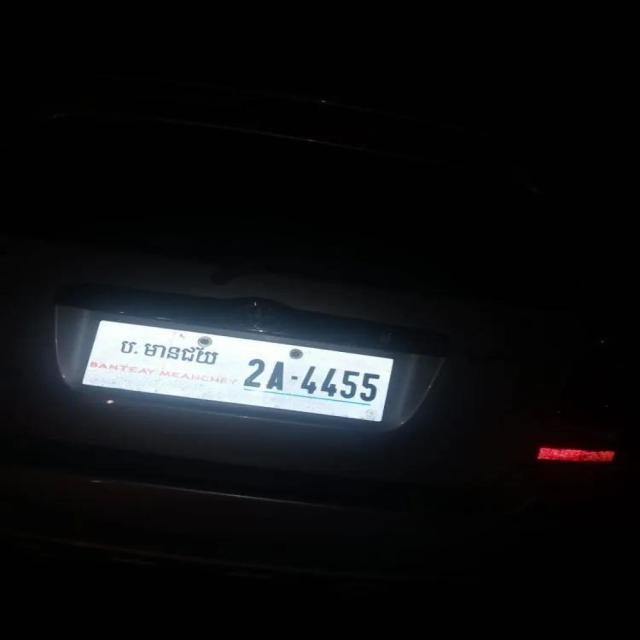Banteay_Meanchey: (120, 338, 222, 367)
